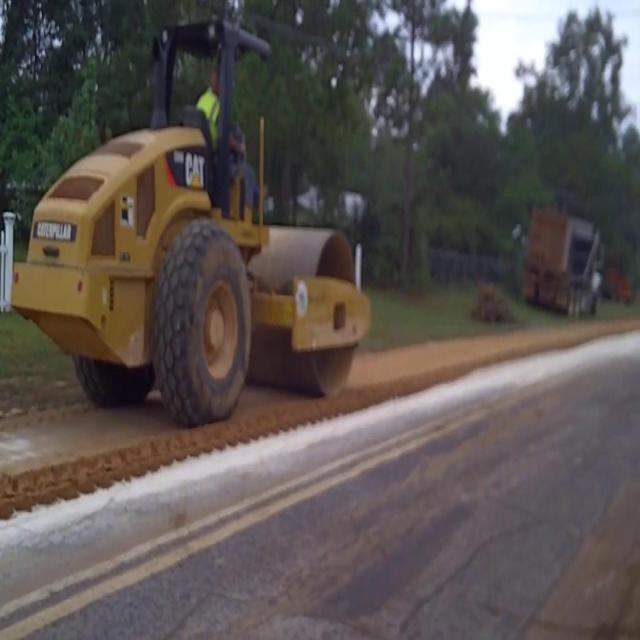dump_truck: (523, 204, 603, 313)
